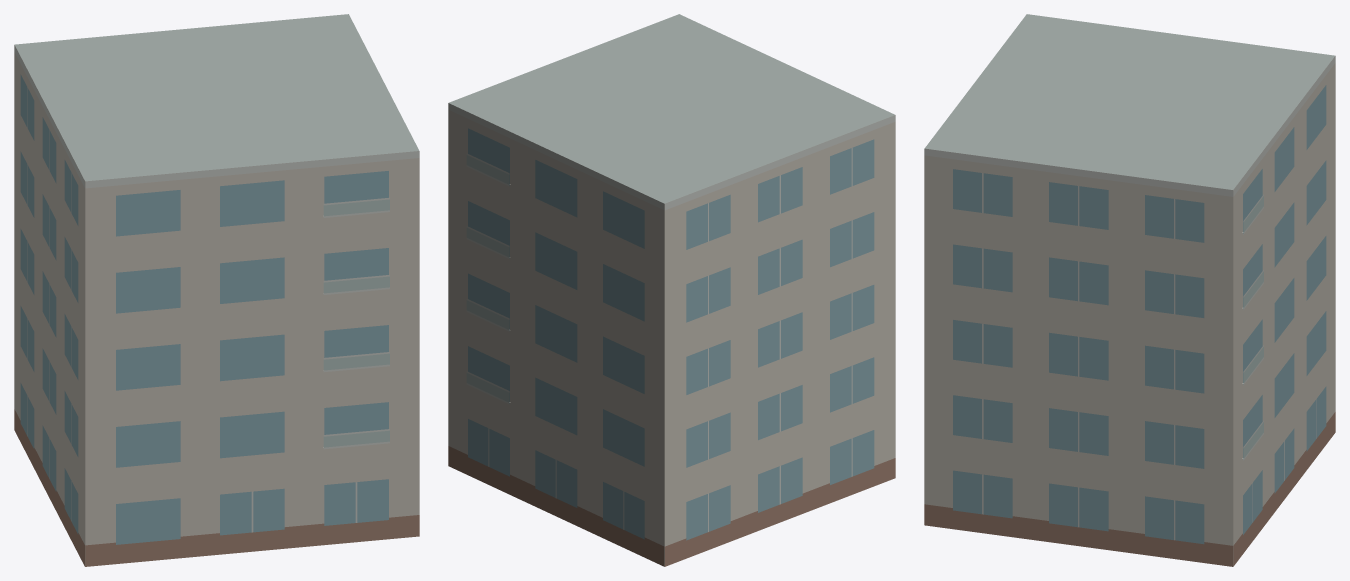
The model's file is survey-upis-32874827.glb.
The picture shows the model from 3 angles, left to right: view 1: azimuth 30°, elevation 25°; view 2: azimuth 150°, elevation 25°; view 3: azimuth 270°, elevation 25°; orthographic projection. The views are drawn at different scales.
Visible parts, largest first — view 1: survey-upis-32874827.tmp; view 2: survey-upis-32874827.tmp; view 3: survey-upis-32874827.tmp.
Boxes of the visible parts, <box> form: survey-upis-32874827.tmp: <box>14,14,419,566</box>; survey-upis-32874827.tmp: <box>448,14,895,566</box>; survey-upis-32874827.tmp: <box>924,14,1335,566</box>.
Bounding box in the file's own units: 13.34 × 13.3 × 13.16.
